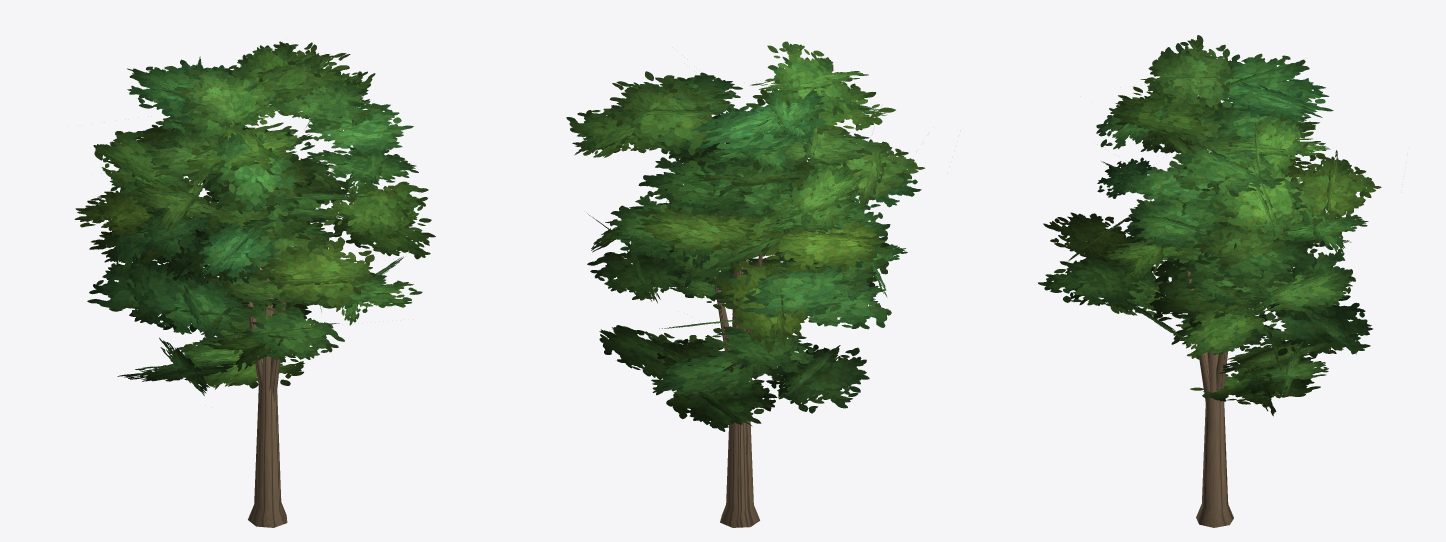
The picture shows the model from 3 angles, left to right: view 1: azimuth 30°, elevation 25°; view 2: azimuth 150°, elevation 25°; view 3: azimuth 270°, elevation 25°; orthographic projection. The views are drawn at different scales.
Parts seen in each view (by area): view 1: tree_7152; view 2: tree_7152; view 3: tree_7152.
Boxes of the visible parts, x1,y1,x2,y2 form: tree_7152: (74, 41, 435, 527); tree_7152: (566, 41, 924, 527); tree_7152: (1038, 35, 1381, 527).
Size of the model in its own units: 11.63 by 13.22 by 11.65.
1 material, 1 textured.
